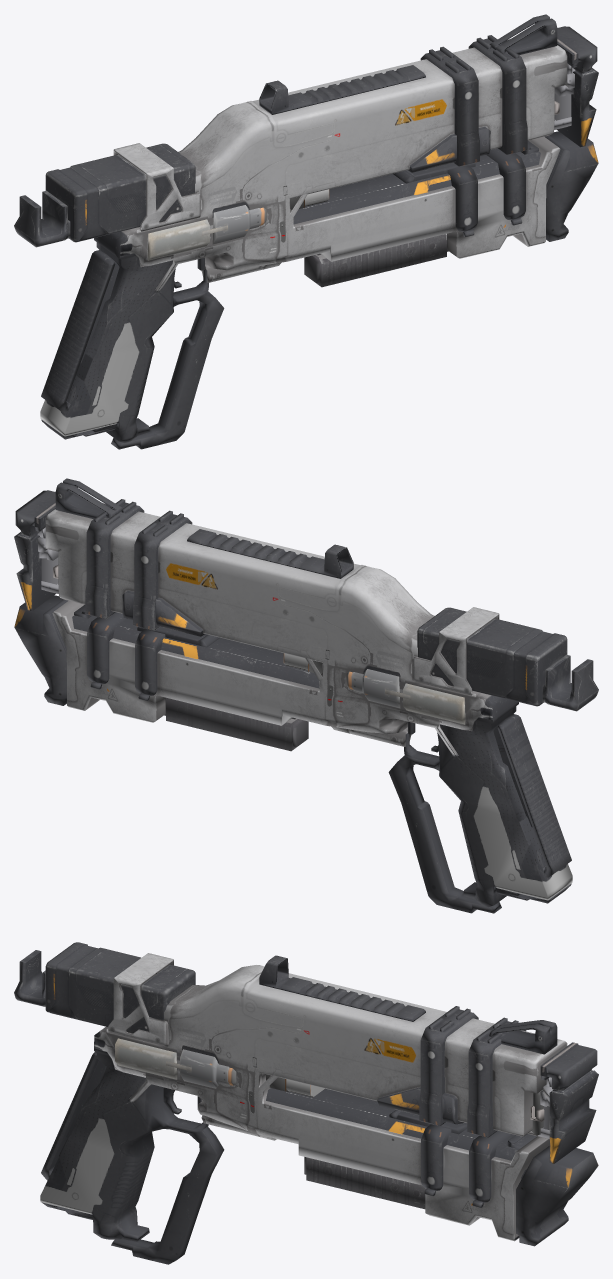
Rendered from VGSGUN_RR_Lowpoly.fbx.
3 views of the same model, one above another, from view 1: azimuth 30°, elevation 25°; view 2: azimuth 150°, elevation 25°; view 3: azimuth 330°, elevation 25° (orthographic).
Visible parts, largest first — view 1: VGSGun_RR_Lowpoly_LOD_0; view 2: VGSGun_RR_Lowpoly_LOD_0; view 3: VGSGun_RR_Lowpoly_LOD_0.
Part boxes in pixels (x1=…): VGSGun_RR_Lowpoly_LOD_0: x1=14, y1=14, x2=598, y2=449; VGSGun_RR_Lowpoly_LOD_0: x1=14, y1=478, x2=598, y2=913; VGSGun_RR_Lowpoly_LOD_0: x1=14, y1=942, x2=598, y2=1264.
Bounding box in the file's own units: 226 × 127 × 29.18.
